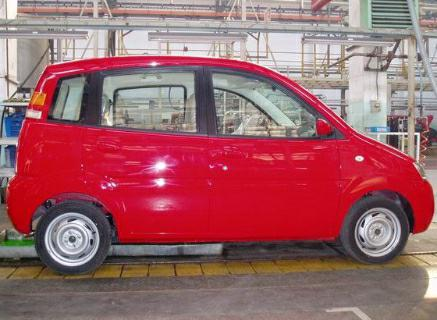昌河-爱迪尔: (8, 52, 436, 280)
